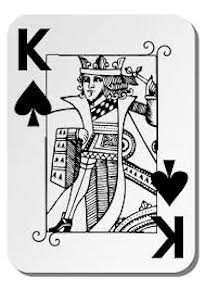KingOfSpades: (5, 11, 201, 281)
